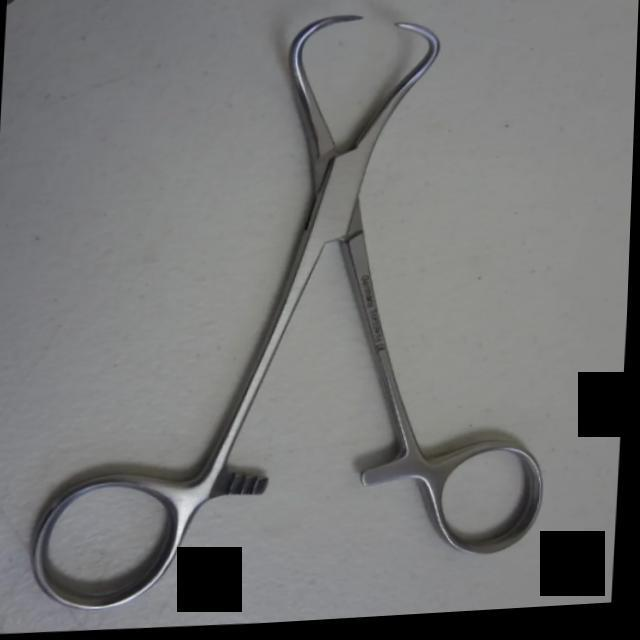Backhaus Towel Clamp: (24, 0, 574, 627)
